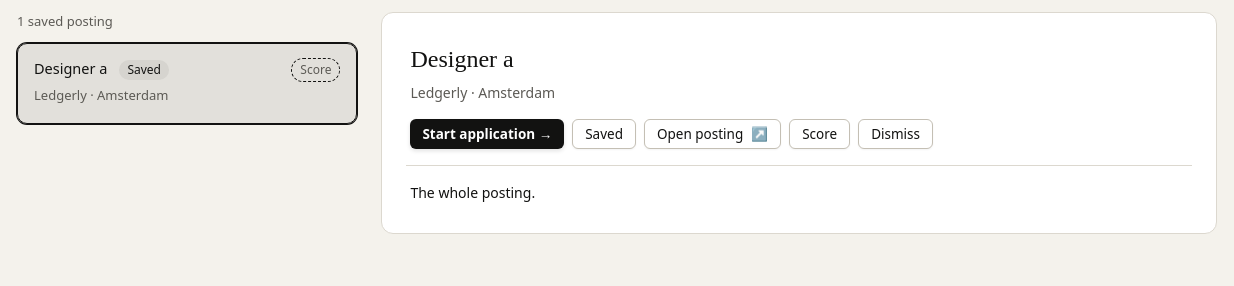
Score in Claude (#221) › closes the waiting tab when Bounceback scores it after all
The width and height of the screenshot is (1234, 286).
Click the button "Score" next to "Open posting".
click(820, 134)  # box [789,119,850,149]
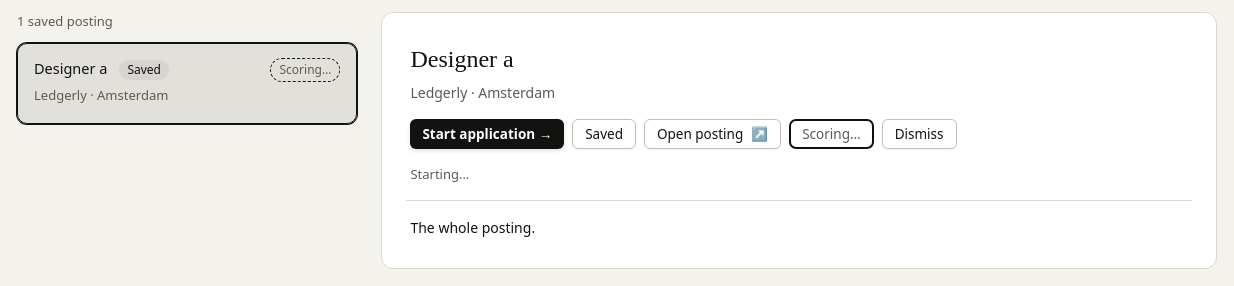
Result: the button "Scoring…" next to "Open posting" is shown at [789,119,874,149]
